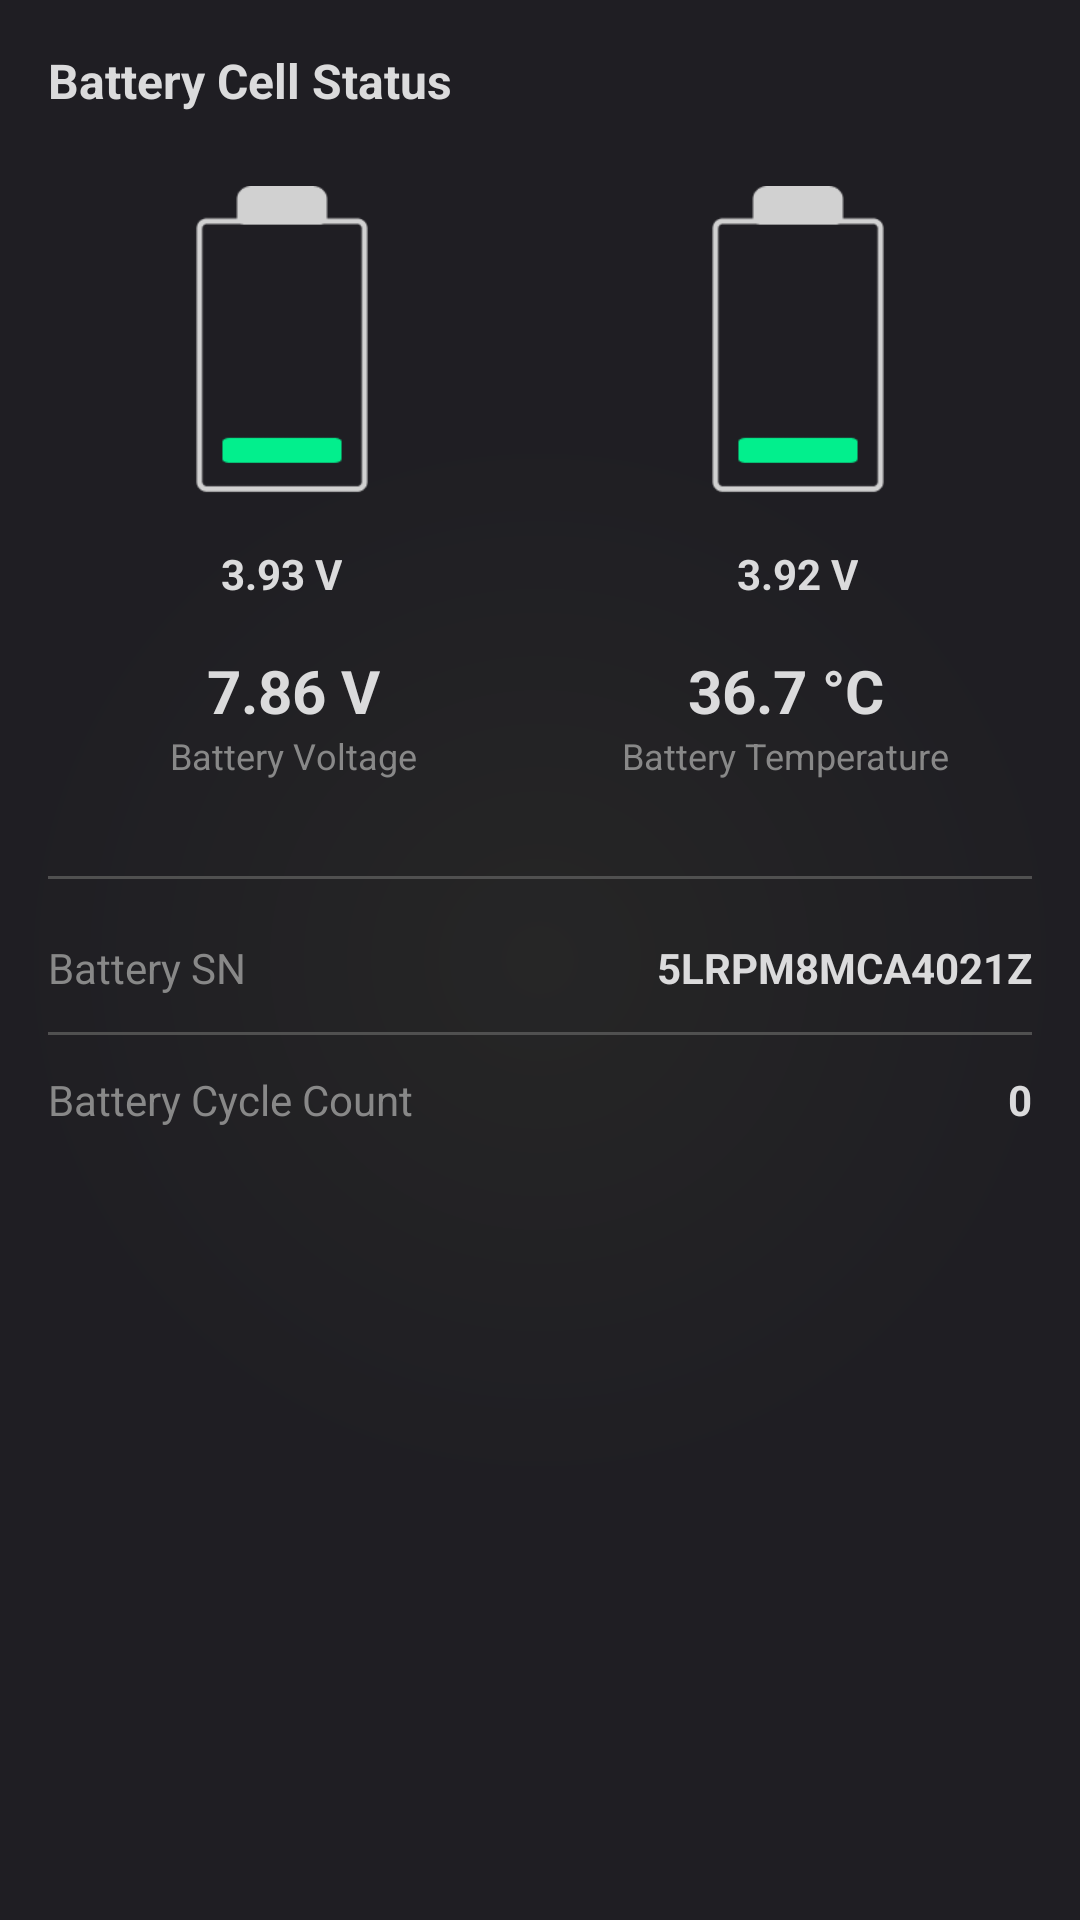

Named icons in this screenshot (1080 × 1920) and their centers, [x,y]:
Battery Cell 1: [282,339]
Battery Cell 2: [798,339]
